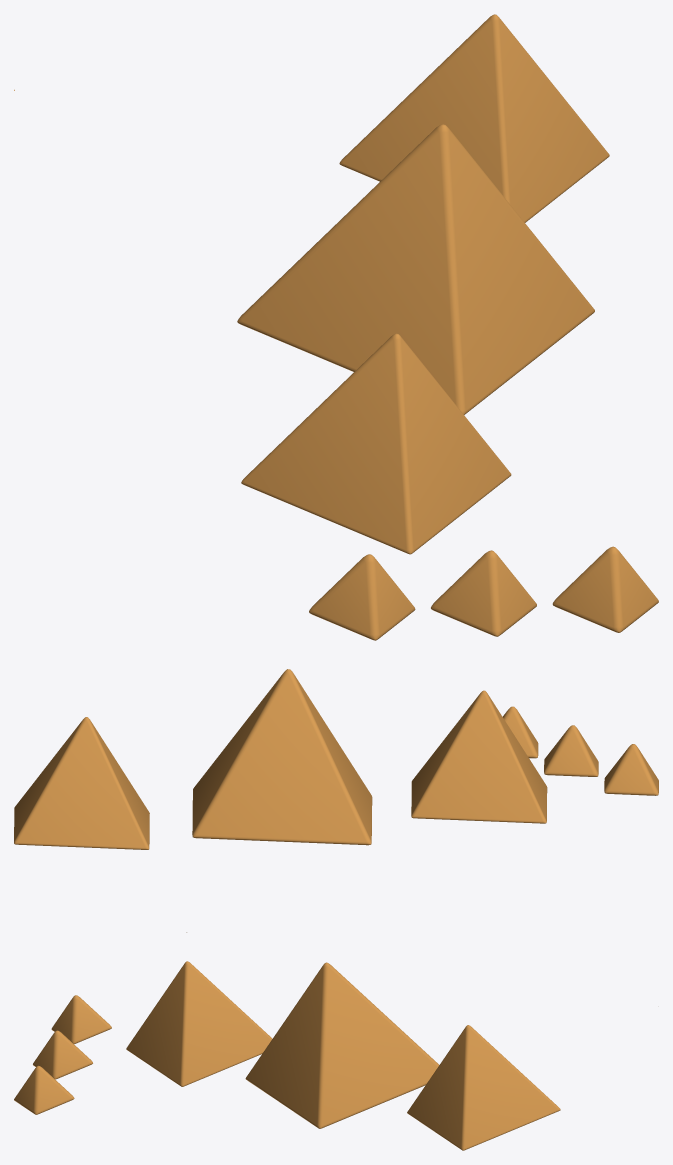
File: Pyramida of Giza.fbx
3 views of the same model, one above another, from view 1: azimuth 30°, elevation 25°; view 2: azimuth 150°, elevation 25°; view 3: azimuth 270°, elevation 25° (orthographic). The views are drawn at different scales.
Visible parts, largest first — view 1: Cone, Cone.001, Cone.002_Cone.003, Cone.003_Cone.004; view 2: Cone, Cone.001, Cone.002_Cone.003, Cone.003_Cone.004; view 3: Cone, Cone.002_Cone.003, Cone.001, Cone.003_Cone.004.
Boxes of the visible parts, x1,y1,x2,y2 form: Cone: (237,124,594,414); Cone.001: (241,333,511,554); Cone.002_Cone.003: (339,14,609,222); Cone.003_Cone.004: (309,546,658,640); Cone: (192,669,372,845); Cone.001: (411,690,547,823); Cone.002_Cone.003: (14,717,149,849); Cone.003_Cone.004: (503,706,658,795); Cone: (245,962,439,1128); Cone.002_Cone.003: (407,1025,560,1150); Cone.001: (126,961,272,1086); Cone.003_Cone.004: (14,995,111,1114).
Size of the model in its own units: 291 by 127 by 453.
